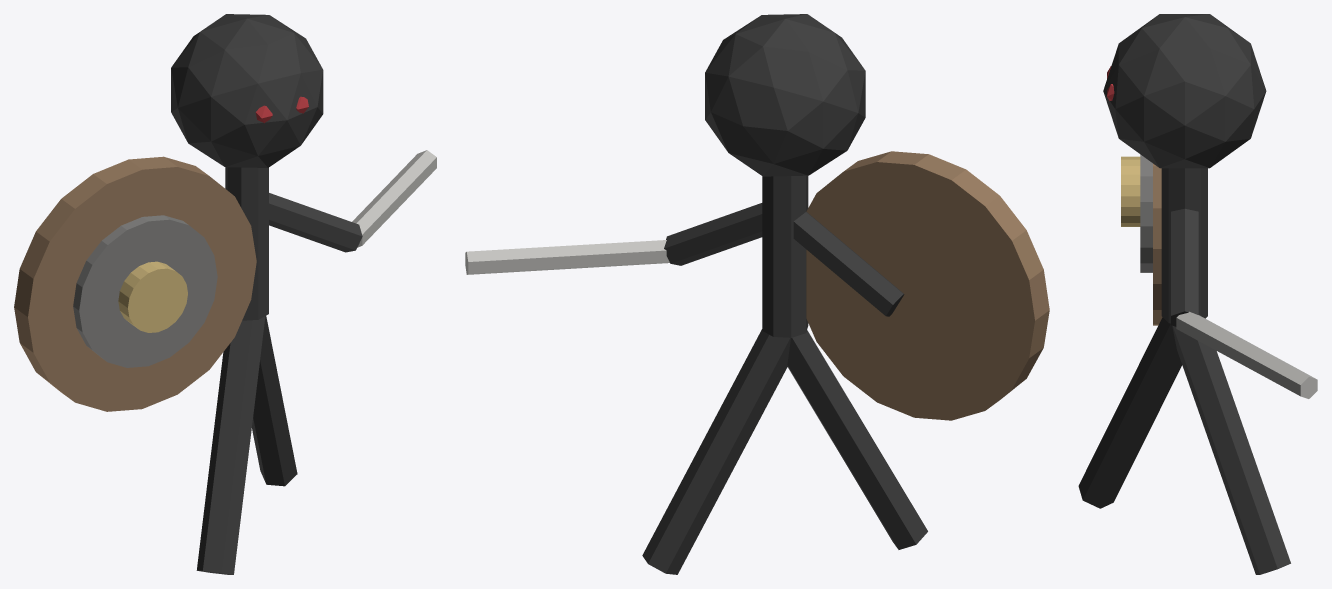
Rendered from enemy_stick_red_shield.glb.
3 views of the same model, side by side, from view 1: azimuth 30°, elevation 25°; view 2: azimuth 150°, elevation 25°; view 3: azimuth 270°, elevation 25° (orthographic). The views are drawn at different scales.
Parts seen in each view (by area): view 1: enemy_shield_shield_wood, enemy_shield_head, enemy_shield_shield_rim, enemy_shield_left_leg, enemy_shield_right_leg, enemy_shield_shield_boss, enemy_shield_torso, enemy_shield_right_arm, enemy_shield_sword_blade; view 2: enemy_shield_shield_wood, enemy_shield_head, enemy_shield_right_leg, enemy_shield_left_leg, enemy_shield_torso, enemy_shield_sword_blade, enemy_shield_left_arm, enemy_shield_right_arm; view 3: enemy_shield_head, enemy_shield_right_leg, enemy_shield_left_leg, enemy_shield_torso, enemy_shield_sword_blade, enemy_shield_right_arm, enemy_shield_shield_rim, enemy_shield_shield_wood, enemy_shield_shield_boss.
Part boxes in pixels (x1,y1,x2,y2): enemy_shield_shield_wood: (14,156,256,411); enemy_shield_head: (171,14,323,167); enemy_shield_shield_rim: (73,215,217,367); enemy_shield_left_leg: (196,316,265,574); enemy_shield_right_leg: (252,316,297,486); enemy_shield_shield_boss: (118,261,187,332); enemy_shield_torso: (225,167,268,320); enemy_shield_right_arm: (269,193,362,252); enemy_shield_sword_blade: (352,150,436,247); enemy_shield_shield_wood: (806,151,1049,420); enemy_shield_head: (705,14,865,176); enemy_shield_right_leg: (642,329,790,574); enemy_shield_left_leg: (787,330,927,549); enemy_shield_torso: (762,175,808,337); enemy_shield_sword_blade: (465,240,669,274); enemy_shield_left_arm: (793,212,904,316); enemy_shield_right_arm: (664,203,762,265); enemy_shield_head: (1103,14,1266,168); enemy_shield_right_leg: (1172,325,1290,574); enemy_shield_left_leg: (1078,317,1181,508); enemy_shield_torso: (1161,168,1207,323); enemy_shield_sword_blade: (1176,311,1317,398); enemy_shield_right_arm: (1171,208,1198,326); enemy_shield_shield_rim: (1140,154,1152,272); enemy_shield_shield_wood: (1153,163,1162,325); enemy_shield_shield_boss: (1121,156,1140,226).
Bounding box in the file's own units: 1.6 × 1.62 × 0.6737.
